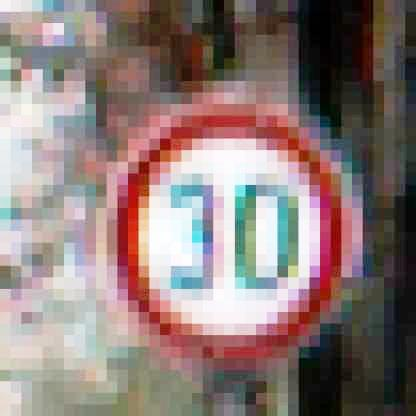Speed Limit -30-: (112, 94, 364, 369)
